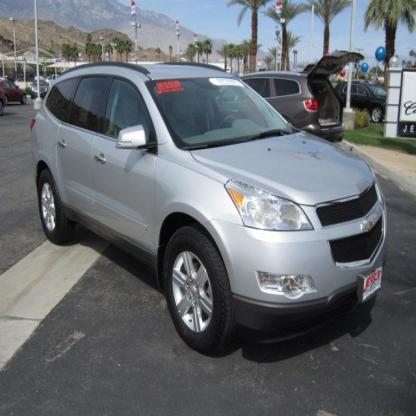Vehicle: (29, 61, 386, 360)
